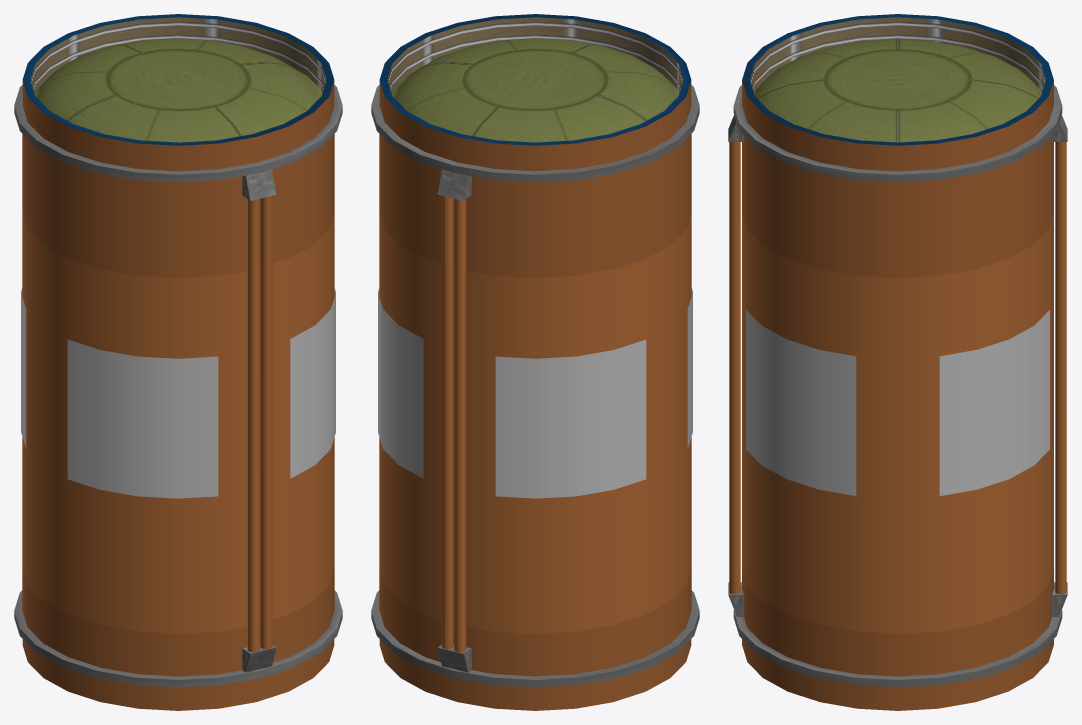
Rendered from FLM-14400.FBX.
The picture shows the model from 3 angles, left to right: view 1: azimuth 30°, elevation 25°; view 2: azimuth 150°, elevation 25°; view 3: azimuth 270°, elevation 25°; orthographic projection.
Parts seen in each view (by area): view 1: TankBody, EndCap001, decalPanel004, TankSleeve001, TankSleeve002, decalPanel001, FuelPipe001, FuelPipe002, BarrelBand003, BarrelBand002, decalPanel003, FuelPlug001 (+1 smaller); view 2: TankBody, EndCap001, decalPanel003, TankSleeve001, TankSleeve002, decalPanel002, FuelPipe003, FuelPipe004, BarrelBand003, BarrelBand002, decalPanel004, FuelPlug004 (+1 smaller); view 3: TankBody, EndCap001, TankSleeve001, decalPanel001, decalPanel002, TankSleeve002, FuelPipe002, FuelPipe004, BarrelBand003, BarrelBand002.
Boxes of the visible parts, x1,y1,x2,y2 form: TankBody: (22,134,334,676); EndCap001: (34,38,322,142); decalPanel004: (67,339,218,498); TankSleeve001: (22,14,334,171); TankSleeve002: (22,639,334,710); decalPanel001: (290,288,335,478); FuelPipe001: (247,198,259,652); FuelPipe002: (260,195,272,649); BarrelBand003: (14,85,342,182); BarrelBand002: (14,590,342,687); decalPanel003: (21,288,26,448); FuelPlug001: (242,169,276,200); TankBody: (379,134,691,676); EndCap001: (391,38,679,142); decalPanel003: (495,339,646,498); TankSleeve001: (379,14,691,171); TankSleeve002: (379,639,691,710); decalPanel002: (378,288,423,478); FuelPipe003: (454,198,466,652); FuelPipe004: (441,195,453,649); BarrelBand003: (371,85,699,182); BarrelBand002: (371,590,699,687); decalPanel004: (687,288,692,448); FuelPlug004: (437,169,471,200); TankBody: (742,136,1053,676); EndCap001: (754,39,1041,142); TankSleeve001: (742,14,1053,171); decalPanel001: (746,310,856,495); decalPanel002: (939,310,1049,495); TankSleeve002: (742,639,1053,710); FuelPipe002: (729,142,740,594); FuelPipe004: (1055,142,1066,594); BarrelBand003: (733,85,1062,182); BarrelBand002: (733,610,1062,687).
Size of what is drawn, in the model's own units: 3.95 by 4.08 by 7.49.
